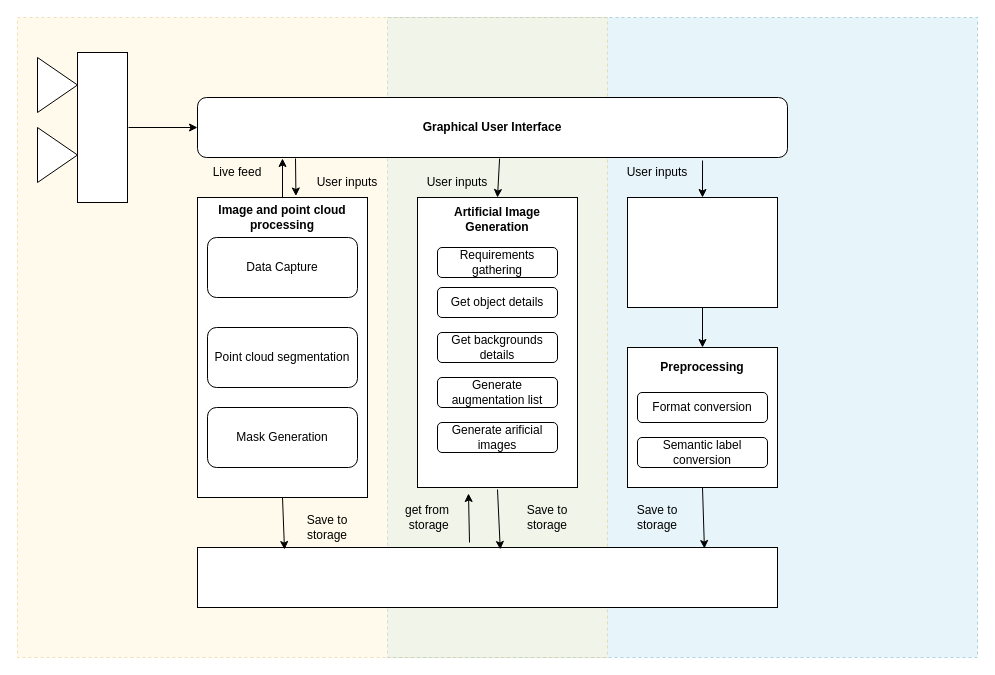
Image size: 995x675. Some labels were removed from this diagram. Each missing label, with the box of its shape:
Camera: (76, 52, 128, 202)
Images and jsons: (626, 196, 778, 308)
Local storage: (196, 546, 778, 608)
